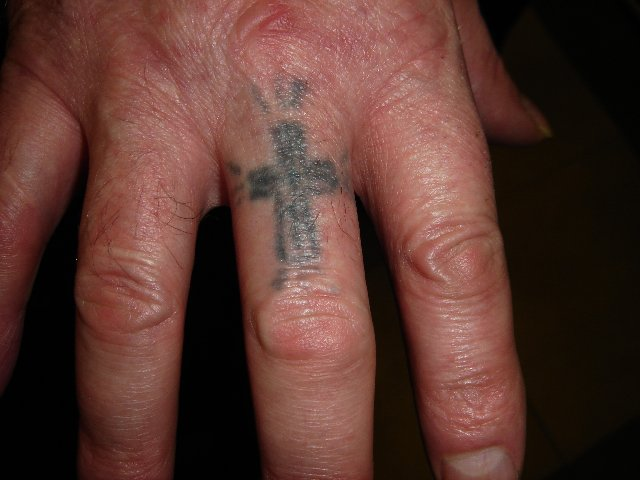tatu9_krest: (239, 113, 355, 276)
